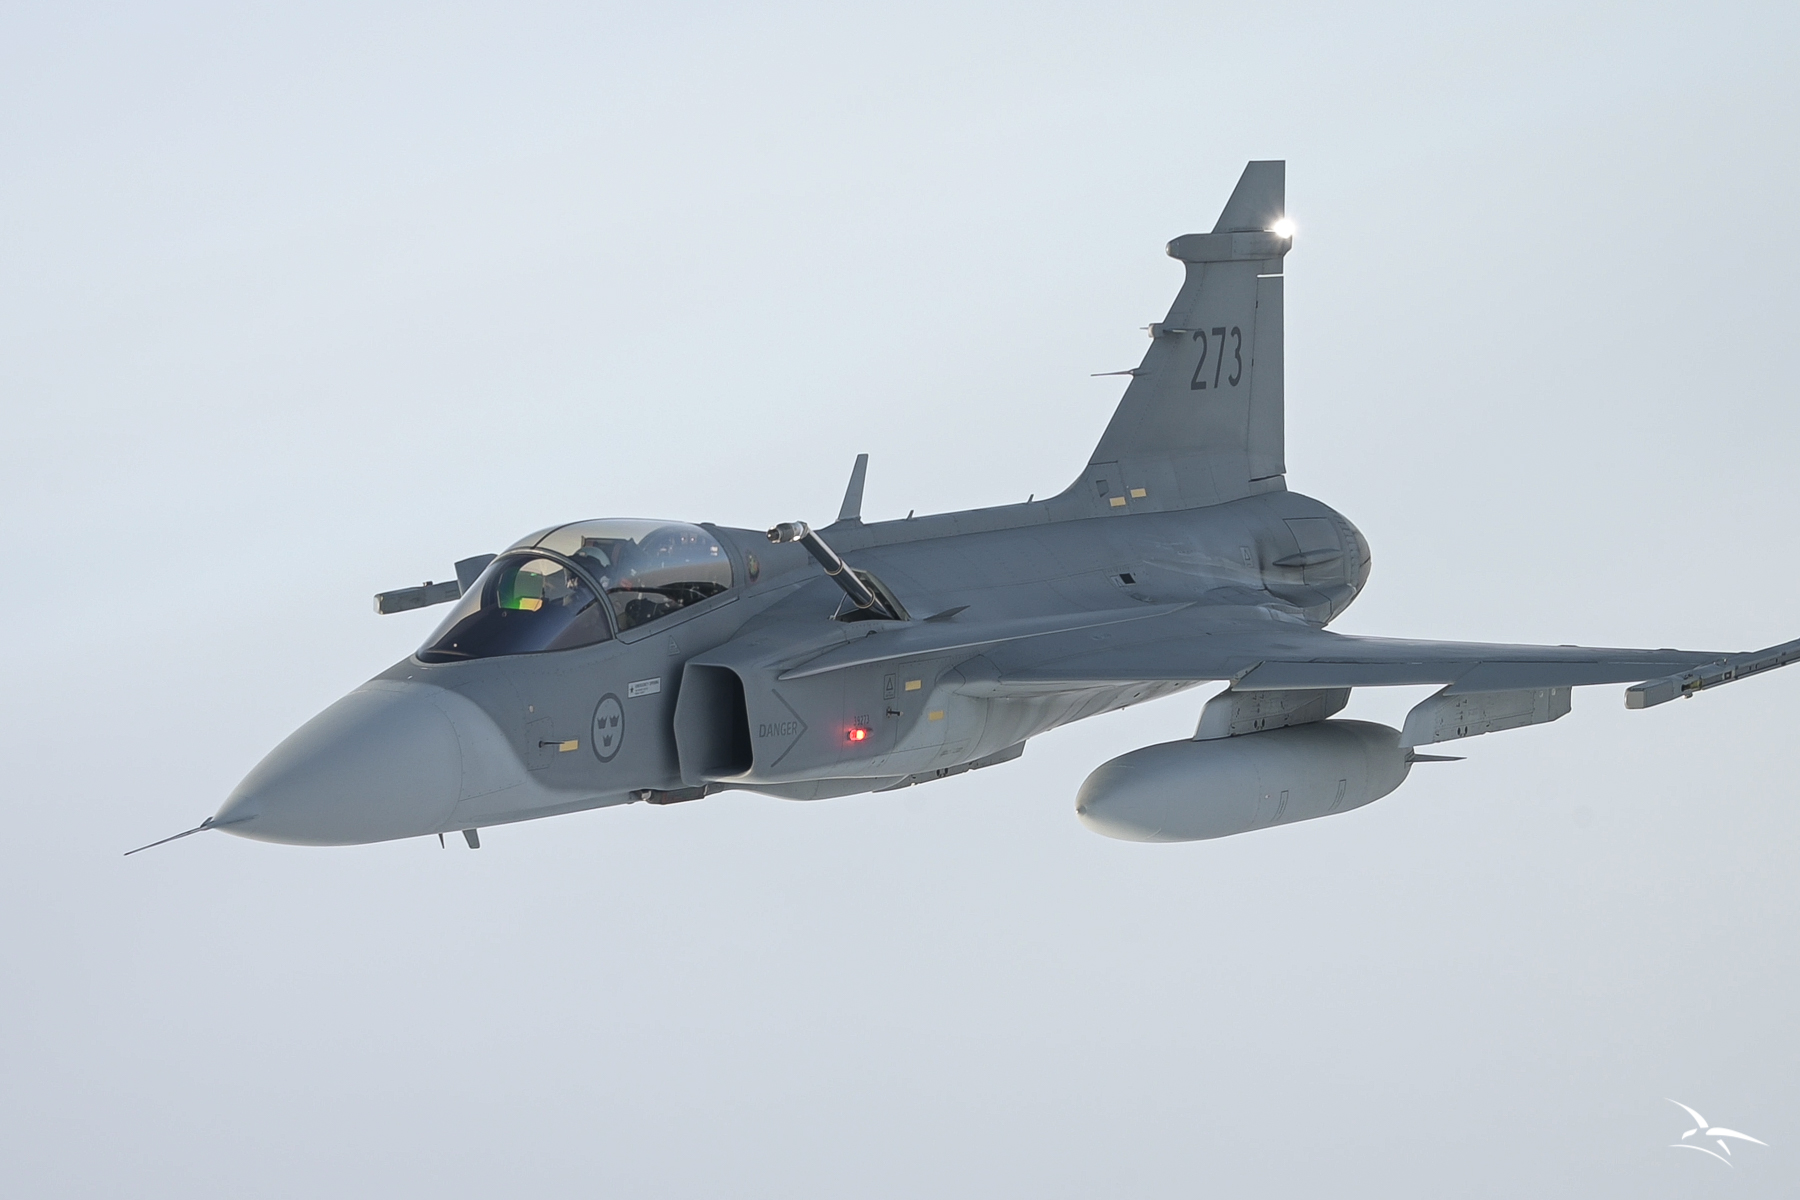JAS39: (123, 159, 1800, 856)
